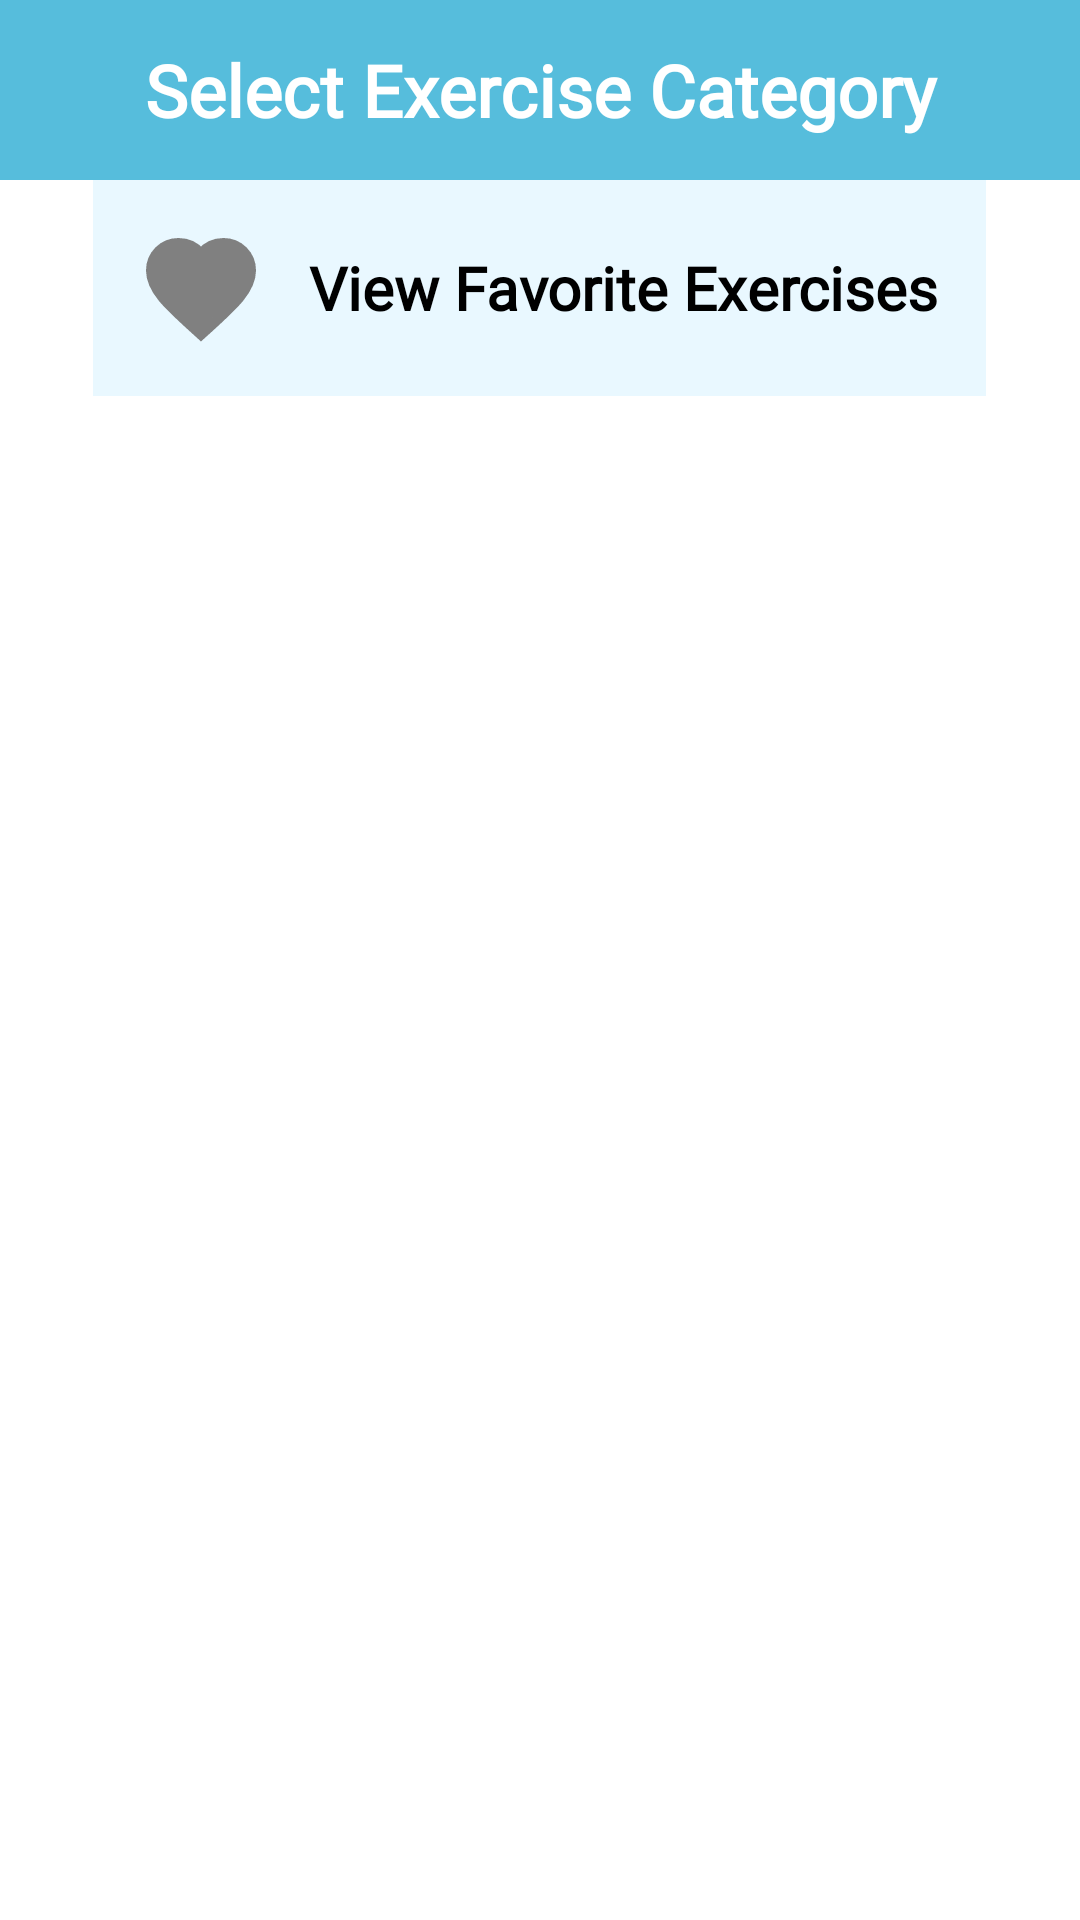

Icon bounding boxes for this 1080 × 1920 phone screenshot, format (x1, y1, x2, y2):
Favorites Icon: (146, 238, 256, 341)
